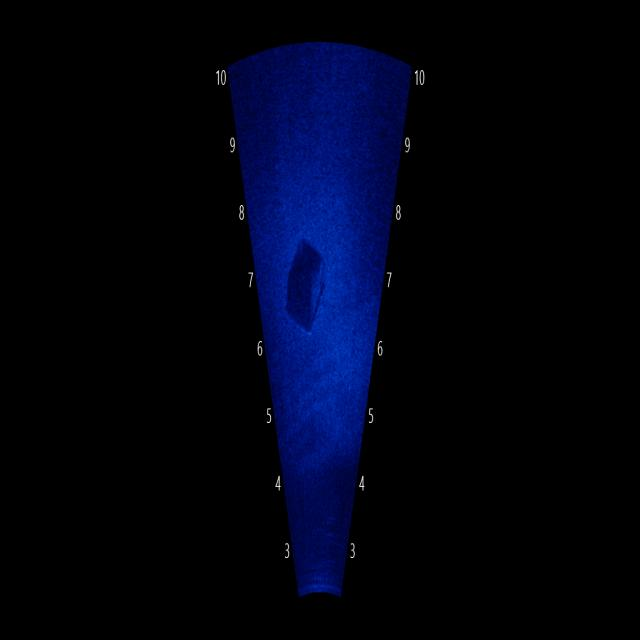square: (280, 227, 332, 351)
